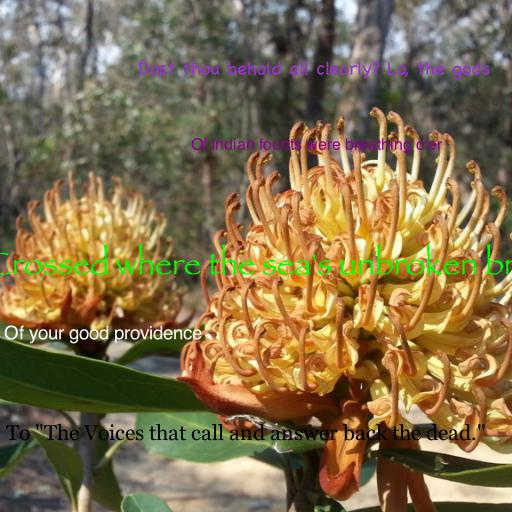Big Caslon: (4, 325, 202, 344)
Chalkboard: (138, 61, 490, 80)
Georgia: (6, 423, 486, 441)
Impact: (190, 137, 442, 154)
Papyrus: (0, 244, 512, 275)
